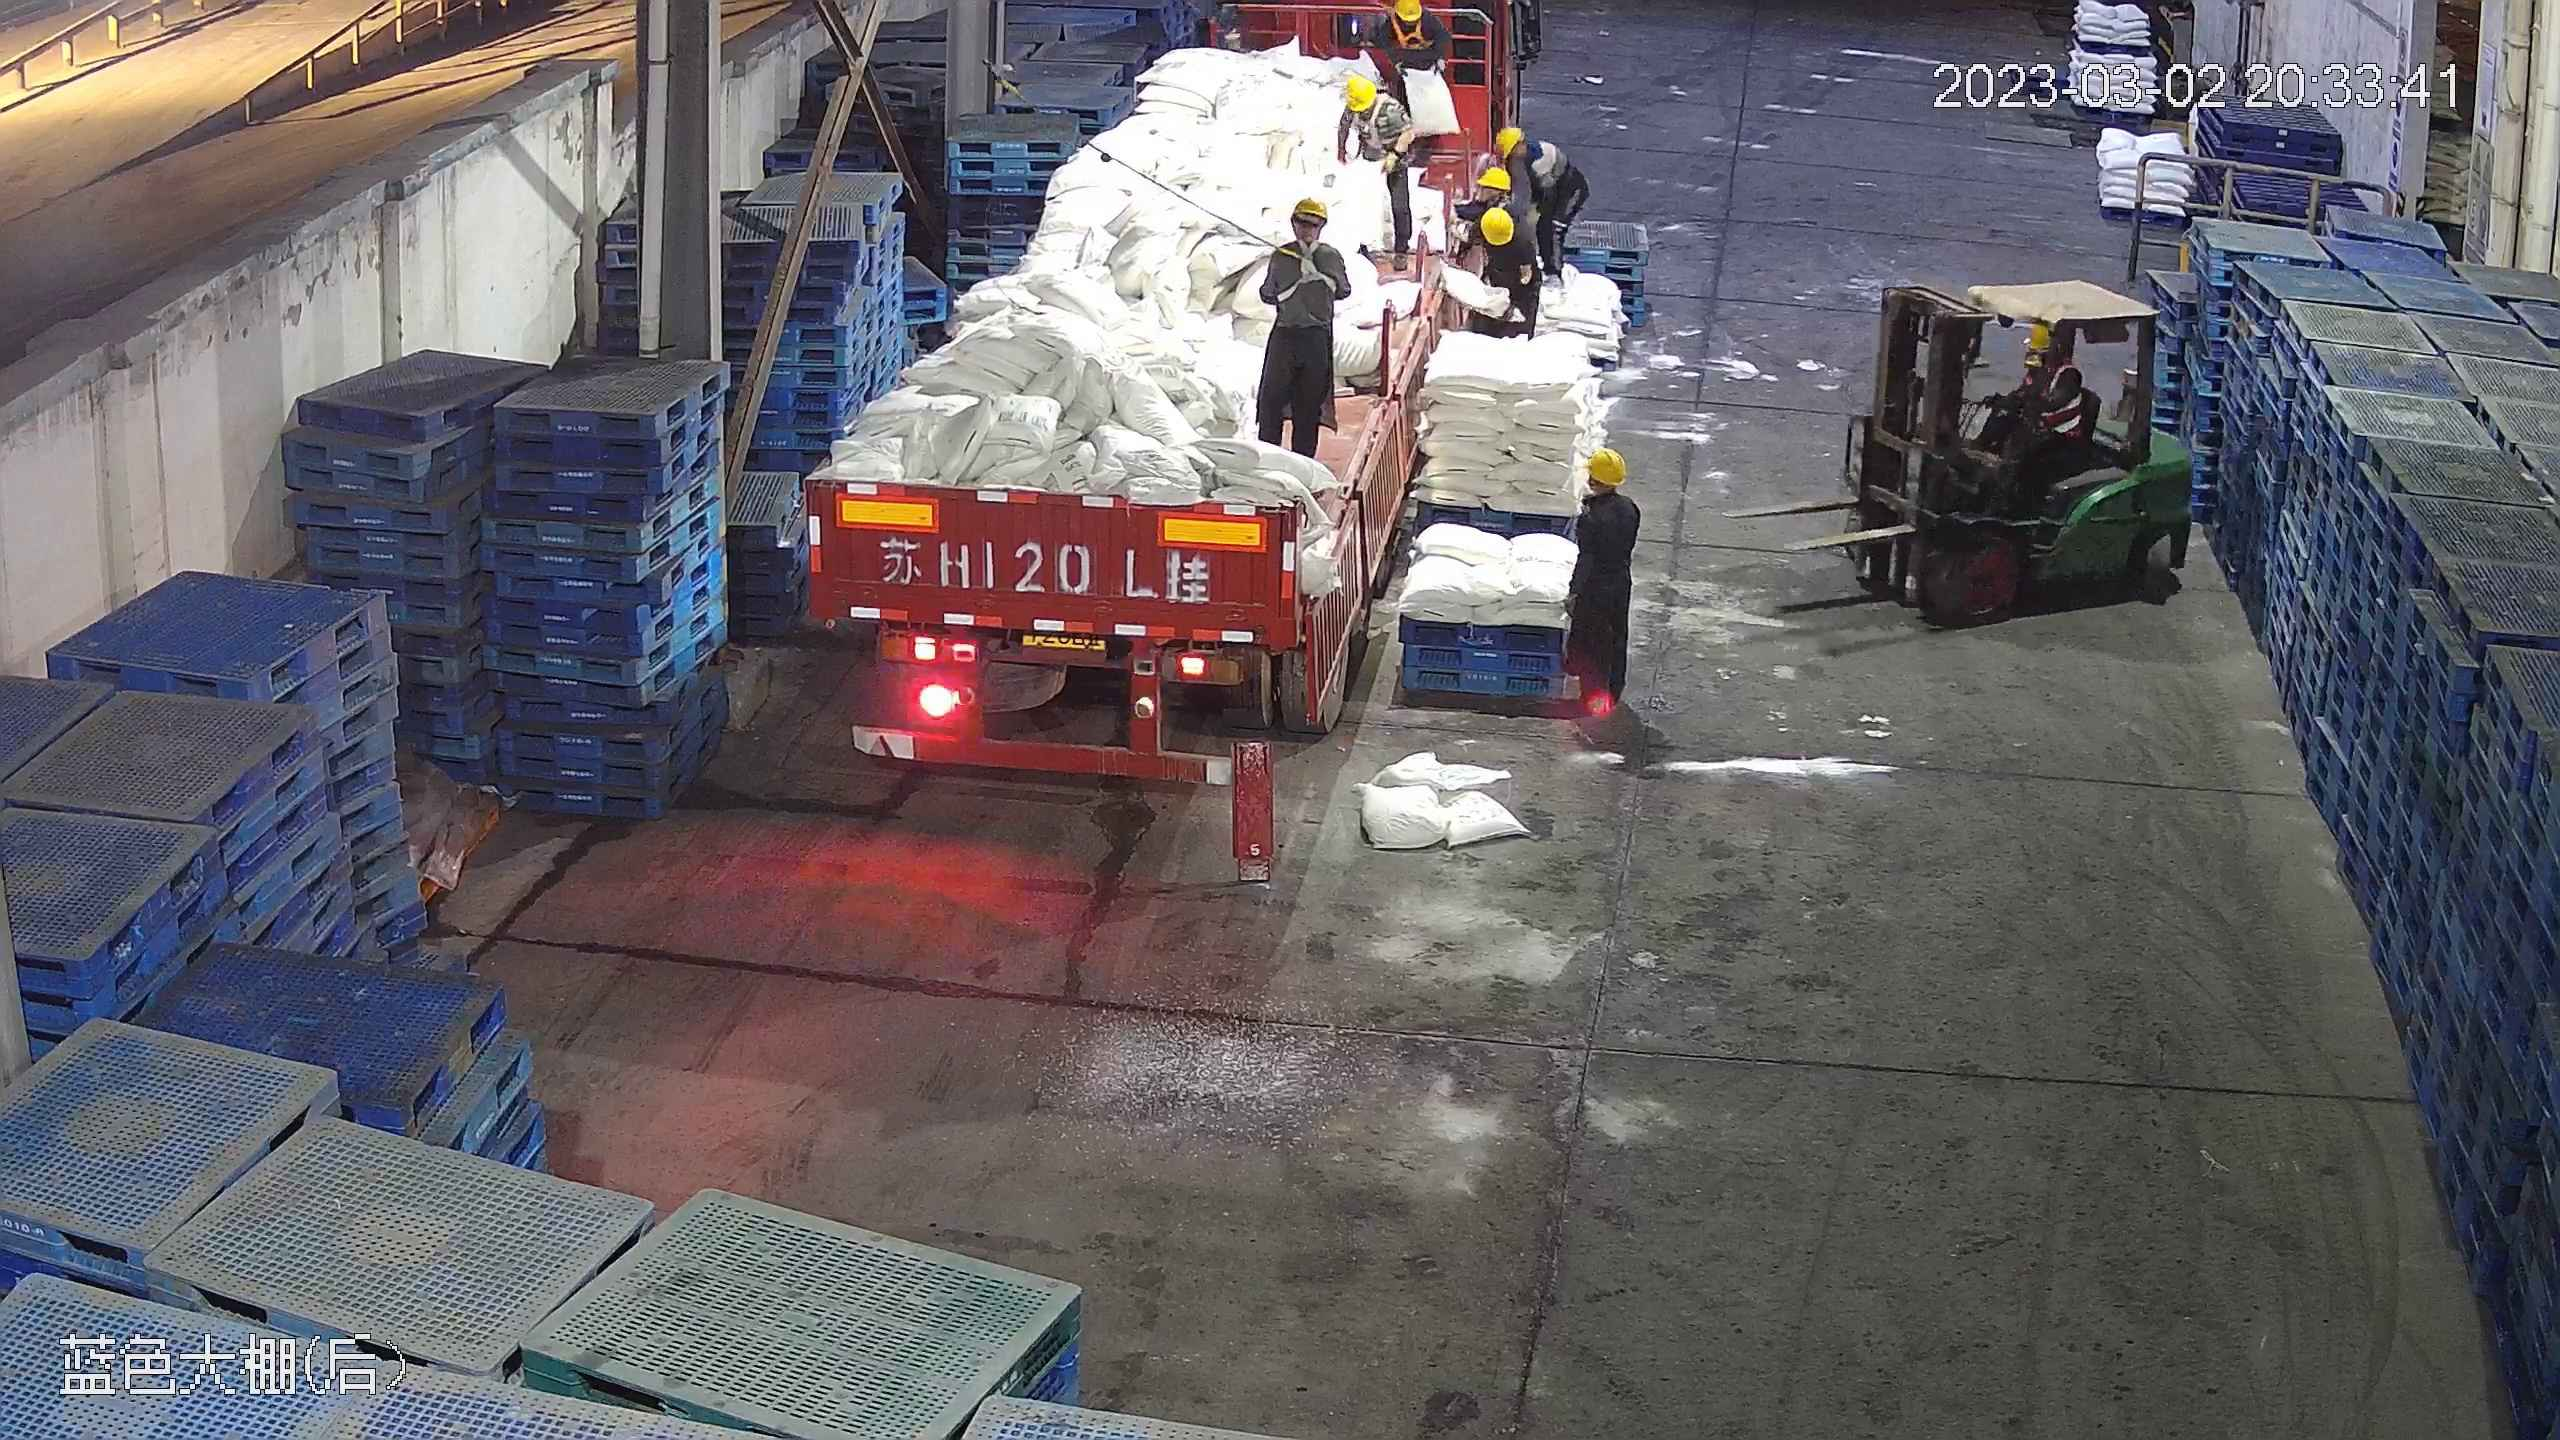belt: (1271, 237, 1334, 294), (1351, 89, 1403, 148), (1387, 12, 1428, 53)
head: (1265, 197, 1343, 281), (1573, 445, 1641, 537), (1336, 71, 1407, 136), (1468, 194, 1523, 271), (1494, 124, 1559, 174), (1374, 1, 1440, 50)
helmet: (1582, 445, 1629, 484), (1483, 205, 1515, 249), (1345, 72, 1377, 112), (1478, 156, 1517, 184), (1289, 195, 1329, 221), (2025, 323, 2056, 353), (1496, 125, 1525, 151)
people: (1228, 196, 1350, 455), (1562, 442, 1643, 722), (1976, 318, 2089, 500), (1333, 71, 1425, 263), (1500, 128, 1579, 297)
truck: (807, 18, 1515, 770)
